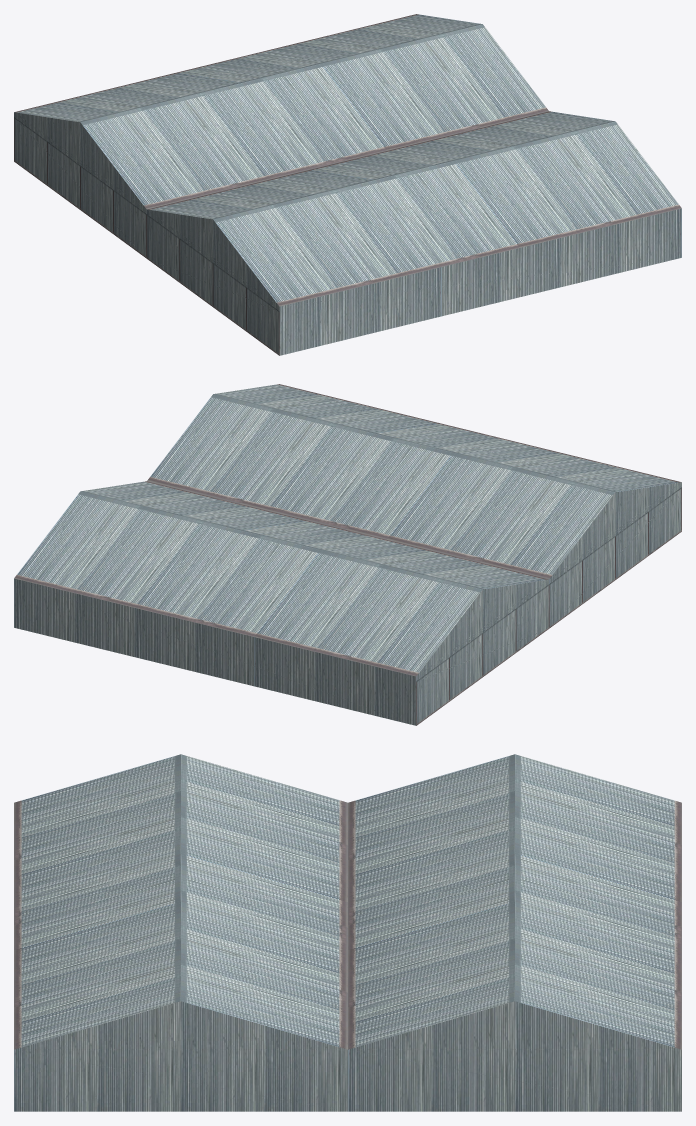
Rendered from hangar-double-40x35x4-cbj_LOD01.gltf.
3 renders of one model, top to bottom at view 1: azimuth 30°, elevation 25°; view 2: azimuth 150°, elevation 25°; view 3: azimuth 270°, elevation 25°, orthographic. The views are drawn at different scales.
Parts seen in each view (by area): view 1: hanger-dob01; view 2: hanger-dob01; view 3: hanger-dob01.
Part boxes in pixels (x1=…): hanger-dob01: x1=14, y1=14, x2=681, y2=355; hanger-dob01: x1=14, y1=384, x2=681, y2=725; hanger-dob01: x1=14, y1=754, x2=681, y2=1111.
Bounding box in the file's own units: 35 × 7.3 × 40.
